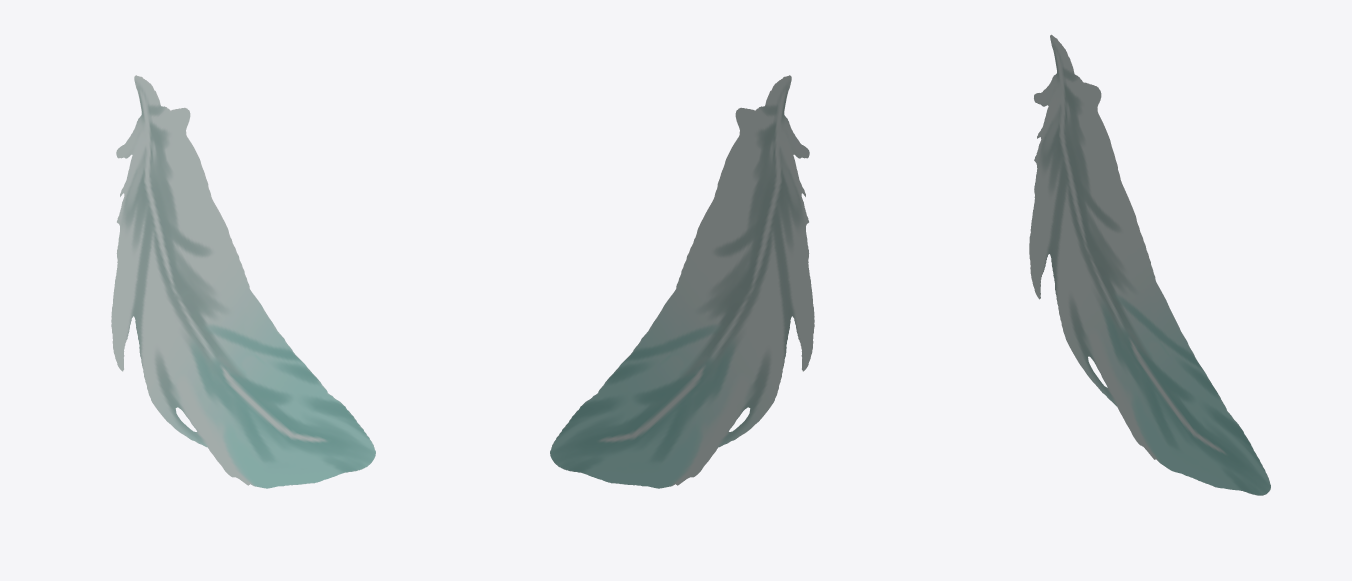
File: Feder.fbx
3 views of the same model, side by side, from view 1: azimuth 30°, elevation 25°; view 2: azimuth 150°, elevation 25°; view 3: azimuth 330°, elevation 25° (orthographic). The views are drawn at different scales.
Parts seen in each view (by area): view 1: Feder, Feder.001; view 2: Feder, Feder.001; view 3: Feder, Feder.001.
Part boxes in pixels (bbox=[...]): Feder: bbox=[111, 75, 375, 488]; Feder.001: bbox=[113, 75, 375, 488]; Feder: bbox=[550, 75, 814, 488]; Feder.001: bbox=[550, 77, 812, 487]; Feder: bbox=[1029, 34, 1270, 495]; Feder.001: bbox=[1031, 37, 1270, 493].
Size of the model in its own units: 41.95 by 53.4 by 2.86e-06.
